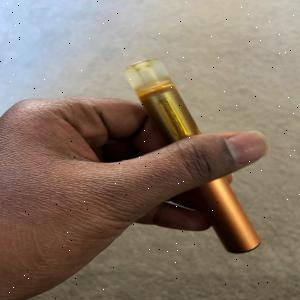Golden-E-Ciggirate: (110, 49, 271, 265)
